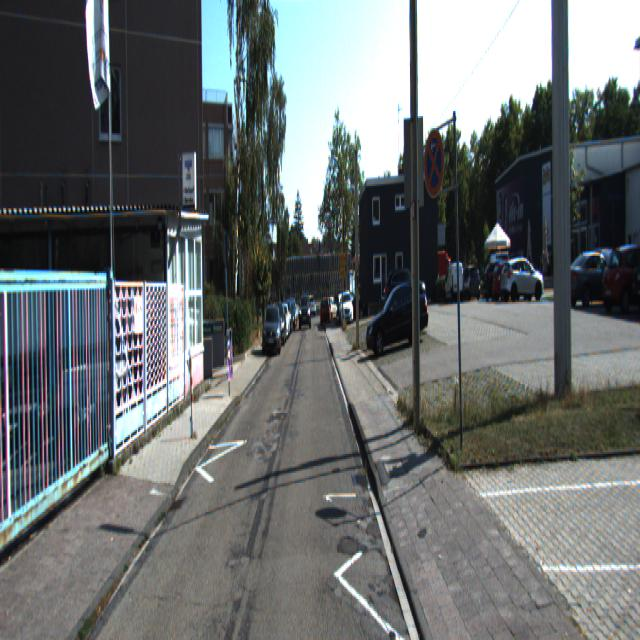Car: (363, 278, 432, 360), (560, 244, 629, 309), (600, 238, 640, 313), (499, 255, 545, 303), (490, 258, 536, 302), (262, 301, 282, 356), (629, 240, 640, 322), (444, 259, 464, 302), (460, 262, 482, 301), (338, 288, 354, 324), (298, 294, 312, 330)
